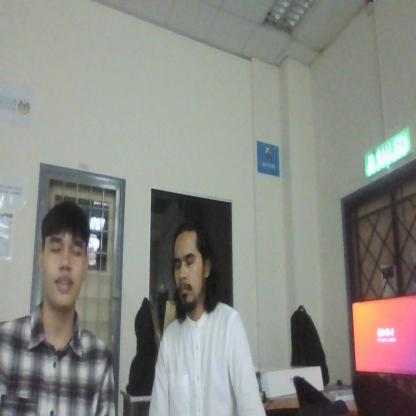Closed-Eyes: (44, 230, 86, 263), (172, 244, 199, 272)
